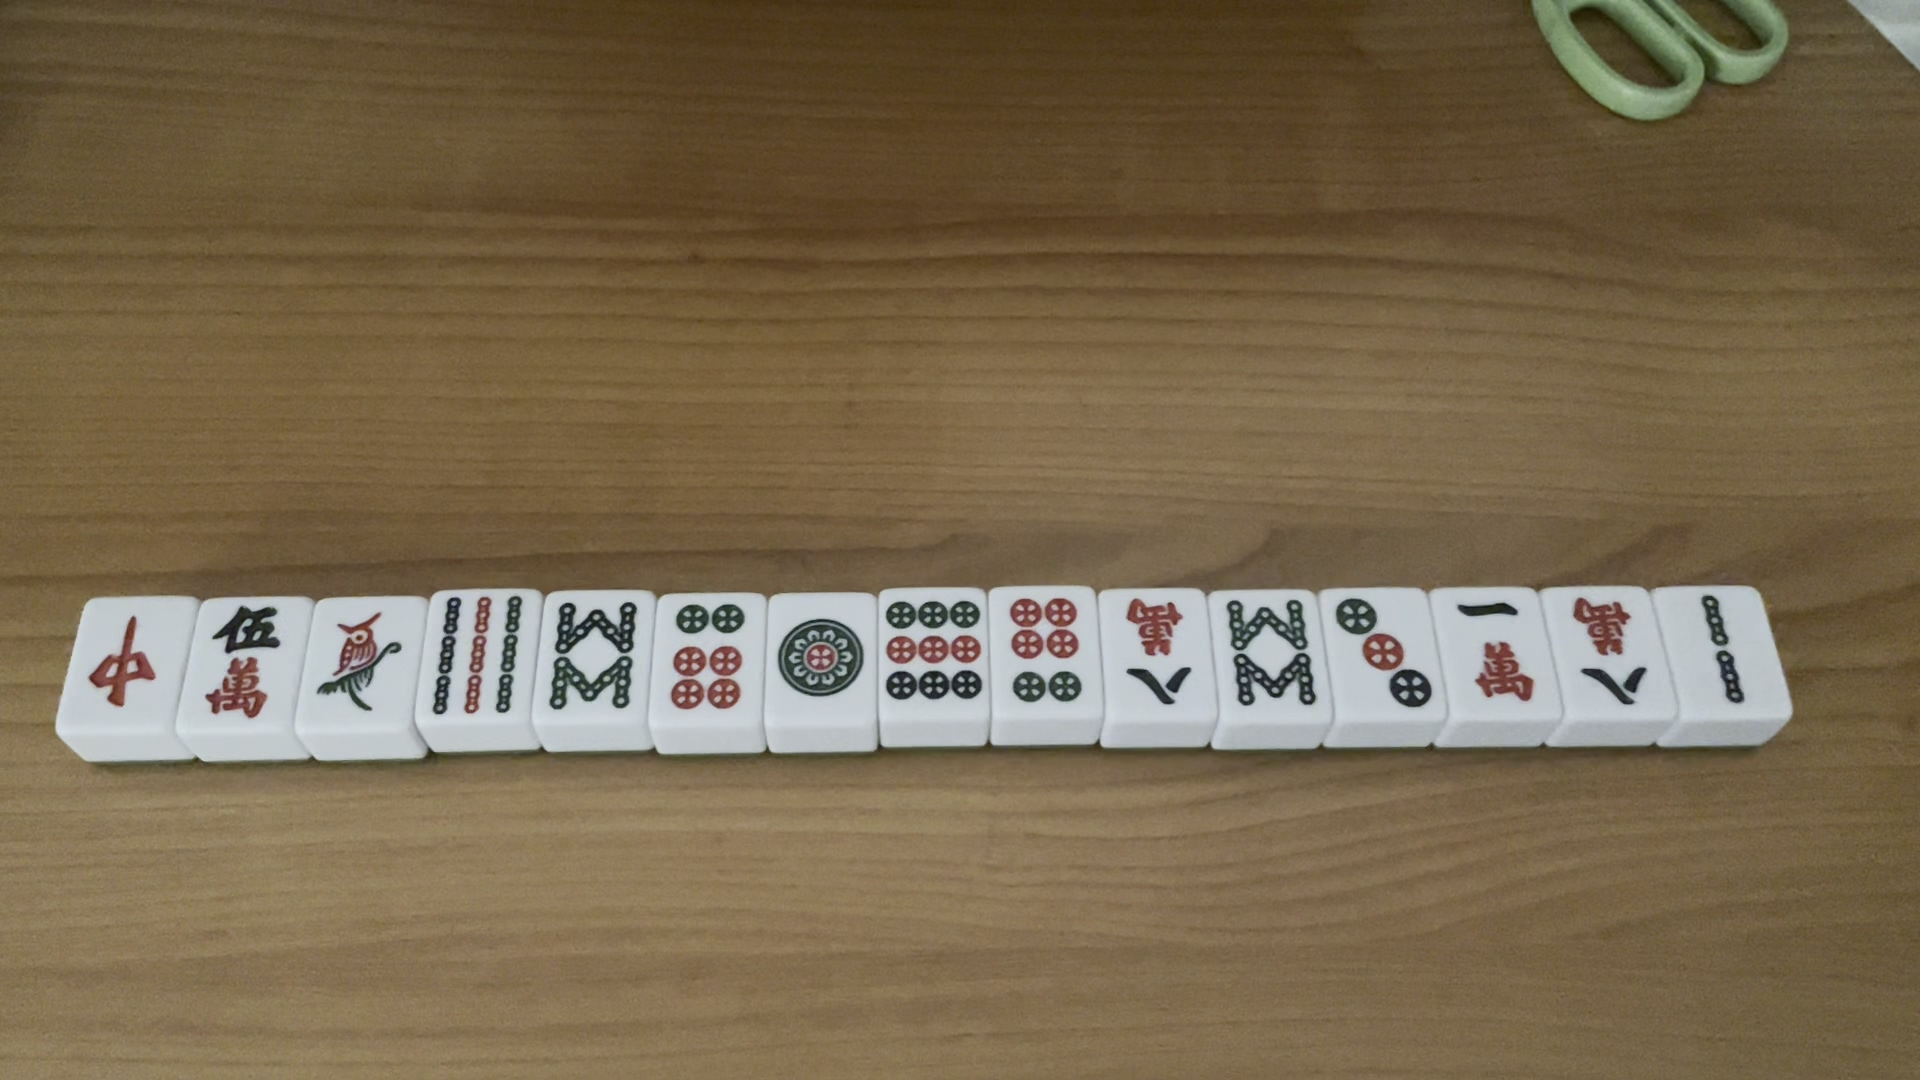b-1: (307, 604, 406, 713)
b-2: (1691, 588, 1751, 702)
b-8: (538, 597, 644, 717), (1215, 593, 1320, 712)
b-9: (431, 593, 520, 721)
c-1: (1455, 589, 1542, 715)
c-5: (194, 604, 287, 727)
c-8: (1113, 595, 1196, 708), (1572, 593, 1655, 705)
d-1: (774, 611, 866, 705)
d-3: (1331, 593, 1436, 711)
d-6: (665, 604, 754, 715), (1005, 596, 1095, 707)
d-9: (884, 599, 981, 704)
honors-red: (80, 612, 167, 713)
